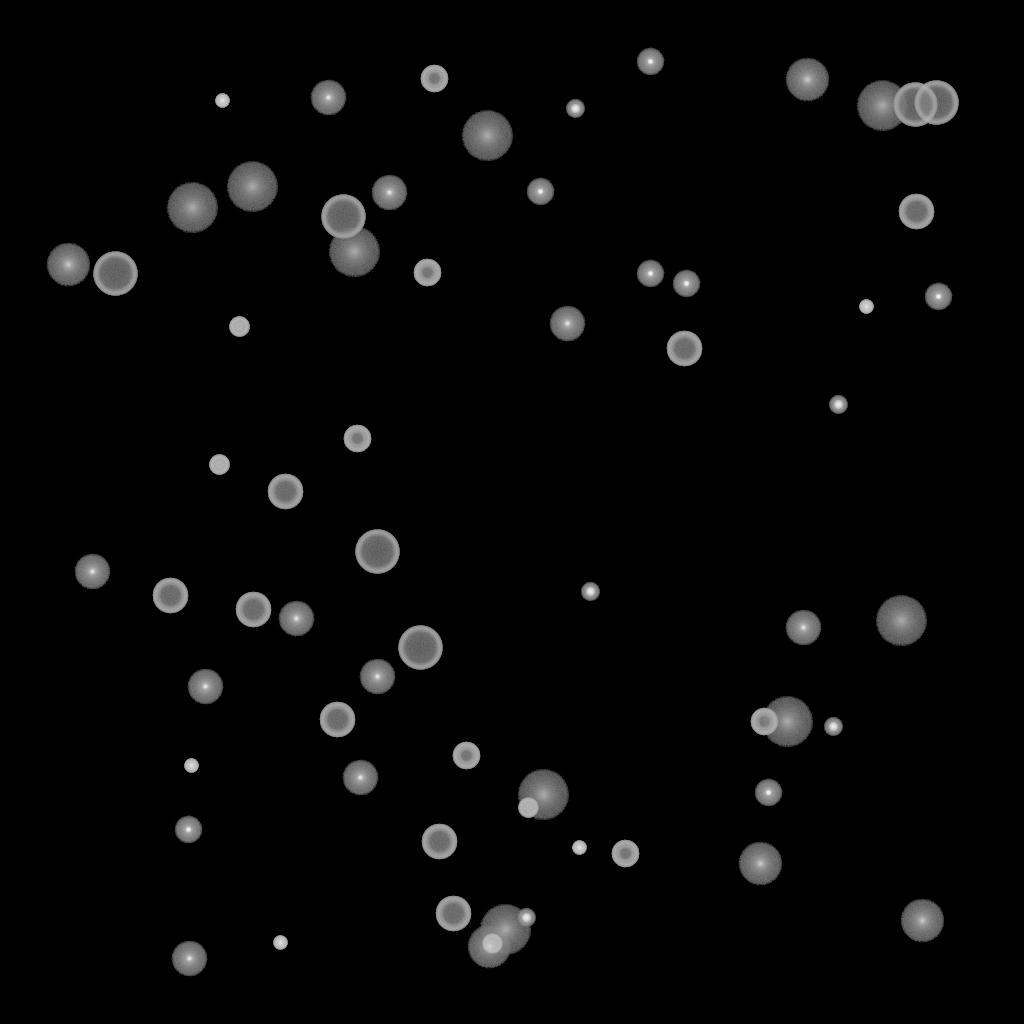depth:-10: (526, 178, 554, 206), (636, 48, 664, 76), (174, 816, 202, 844), (636, 260, 664, 288), (924, 283, 952, 311), (672, 270, 700, 298), (754, 779, 782, 807)
depth:-20: (566, 100, 584, 118), (517, 909, 535, 927), (829, 396, 847, 414), (824, 718, 842, 736), (581, 583, 599, 601)
depth:-30: (273, 936, 287, 950), (572, 841, 586, 855), (184, 759, 198, 773), (859, 300, 873, 314), (215, 94, 229, 108)
depth:-40: (482, 934, 502, 954), (209, 455, 229, 475), (229, 317, 249, 337), (518, 798, 538, 818)
depth:-50: (420, 65, 448, 93), (343, 425, 371, 453), (750, 708, 778, 736), (452, 742, 480, 770), (413, 259, 441, 287), (611, 840, 639, 868)
depth:-60: (319, 702, 355, 738), (435, 896, 471, 932), (666, 331, 702, 367), (898, 194, 934, 230), (421, 824, 457, 860), (235, 592, 271, 628), (267, 474, 303, 510), (152, 578, 188, 614)
depth:-70: (914, 81, 958, 125), (398, 626, 442, 670), (321, 195, 365, 239), (93, 252, 137, 296), (893, 83, 937, 127), (355, 530, 399, 574)
depth:0: (171, 941, 207, 977), (359, 659, 395, 695), (187, 669, 223, 705), (342, 760, 378, 796), (278, 601, 314, 637), (549, 306, 585, 342), (310, 80, 346, 116), (74, 554, 110, 590), (371, 175, 407, 211), (785, 610, 821, 646)
depth:10: (738, 842, 782, 886), (467, 925, 511, 969), (46, 243, 90, 287), (900, 899, 944, 943), (785, 58, 829, 102)
depth:20: (875, 596, 927, 646), (226, 162, 278, 212), (461, 111, 513, 161), (856, 81, 908, 131), (517, 770, 569, 820), (479, 905, 531, 955), (328, 227, 380, 277), (166, 183, 218, 233), (761, 697, 813, 747)
